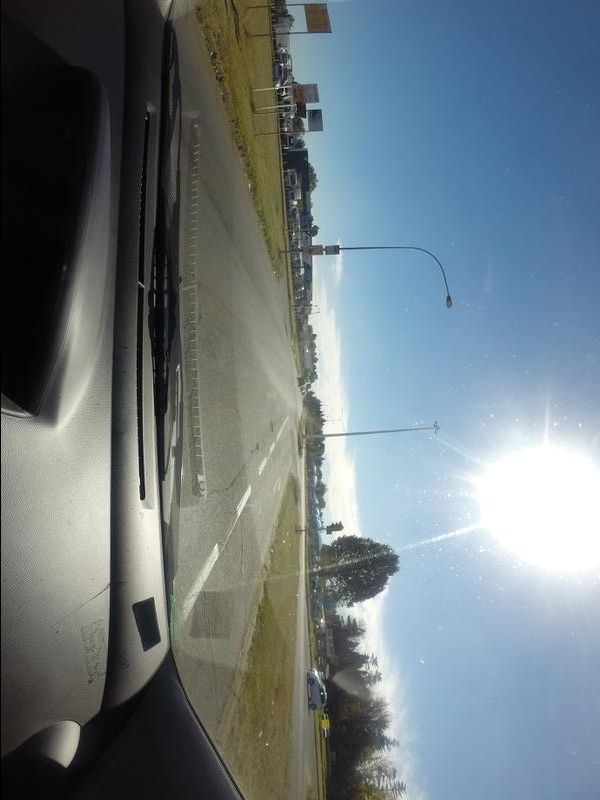pothole: (263, 419, 277, 448)
